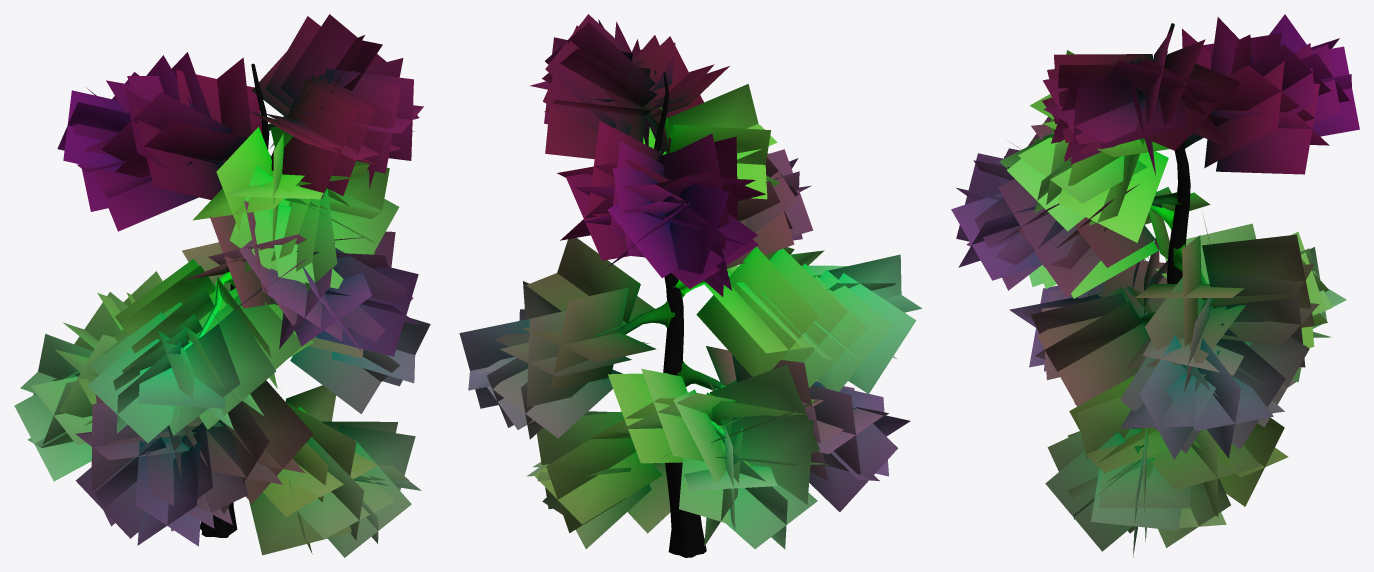
File: M_P14_Tree_3.fbx
The picture shows the model from 3 angles, left to right: view 1: azimuth 30°, elevation 25°; view 2: azimuth 150°, elevation 25°; view 3: azimuth 270°, elevation 25°; orthographic projection.
Parts seen in each view (by area): view 1: Tree_3; view 2: Tree_3; view 3: Tree_3.
Part boxes in pixels (<box>): Tree_3: <box>14,14,430,557</box>; Tree_3: <box>459,14,921,557</box>; Tree_3: <box>951,14,1359,556</box>.
Bounding box in the file's own units: 434 × 568 × 402.
